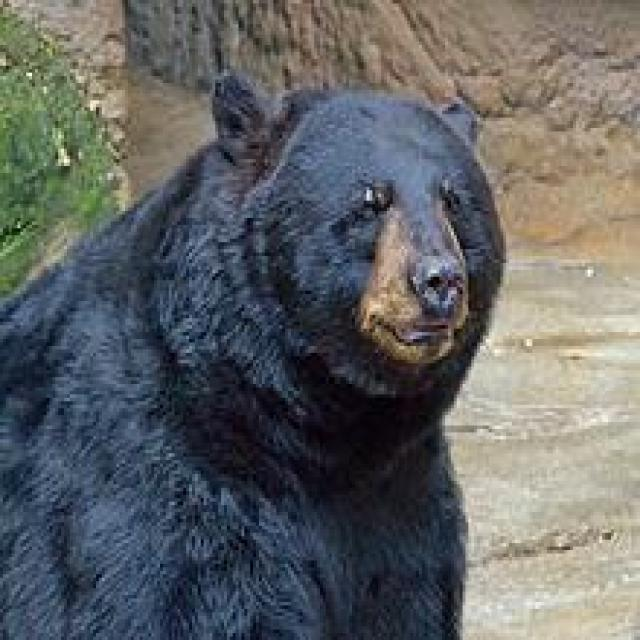Bear: (0, 73, 509, 640)
